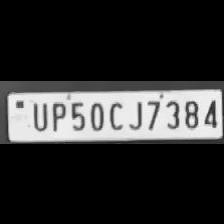0: (86, 98, 106, 130)
3: (162, 96, 180, 130)
4: (200, 96, 220, 128)
5: (66, 98, 86, 130)
7: (142, 96, 162, 130)
8: (180, 96, 200, 130)
C: (105, 97, 125, 130)
J: (125, 96, 143, 130)
P: (47, 98, 66, 130)
U: (27, 98, 49, 132)
